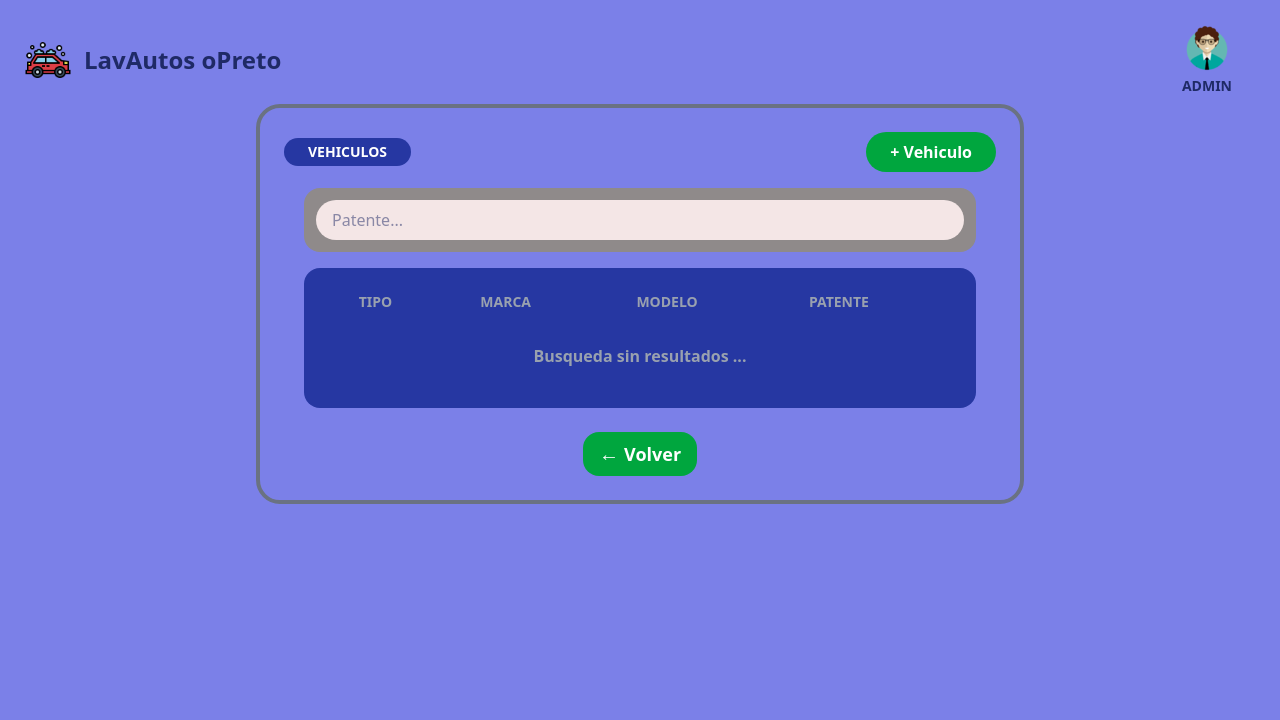
Scenario: VehiculosPage › muestra filas alternadas y un botón + info por fila
Type "o" into the field named "Buscar vehiculos" at (640, 220), box [316,200,964,240]
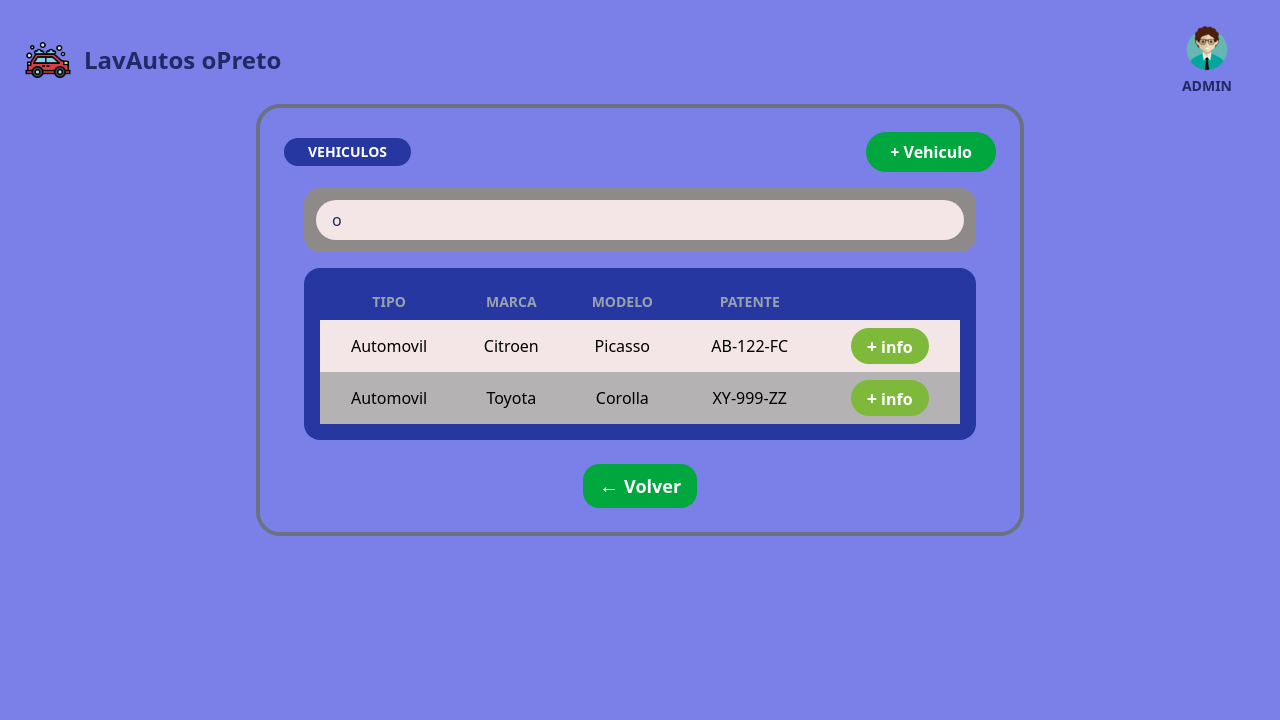
Now the number of rows with test id "vehiculo-row" is 2, box [320,320,960,372]; [320,372,960,424]
Now the number of buttons "+ info" is 2, box [851,328,929,364]; [851,380,929,416]
